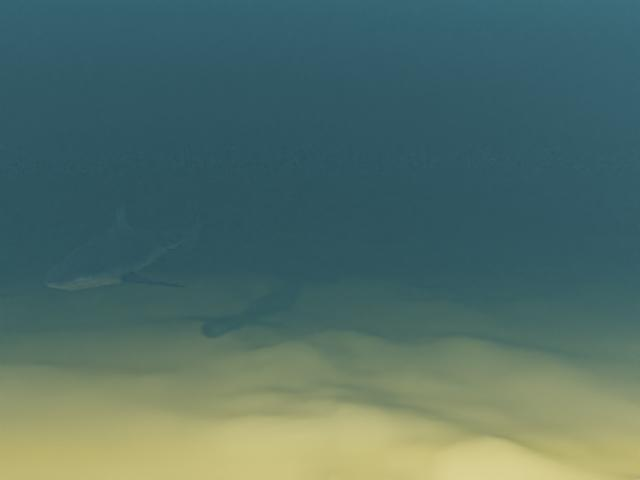Carribean Shark.001: (45, 190, 200, 290)
